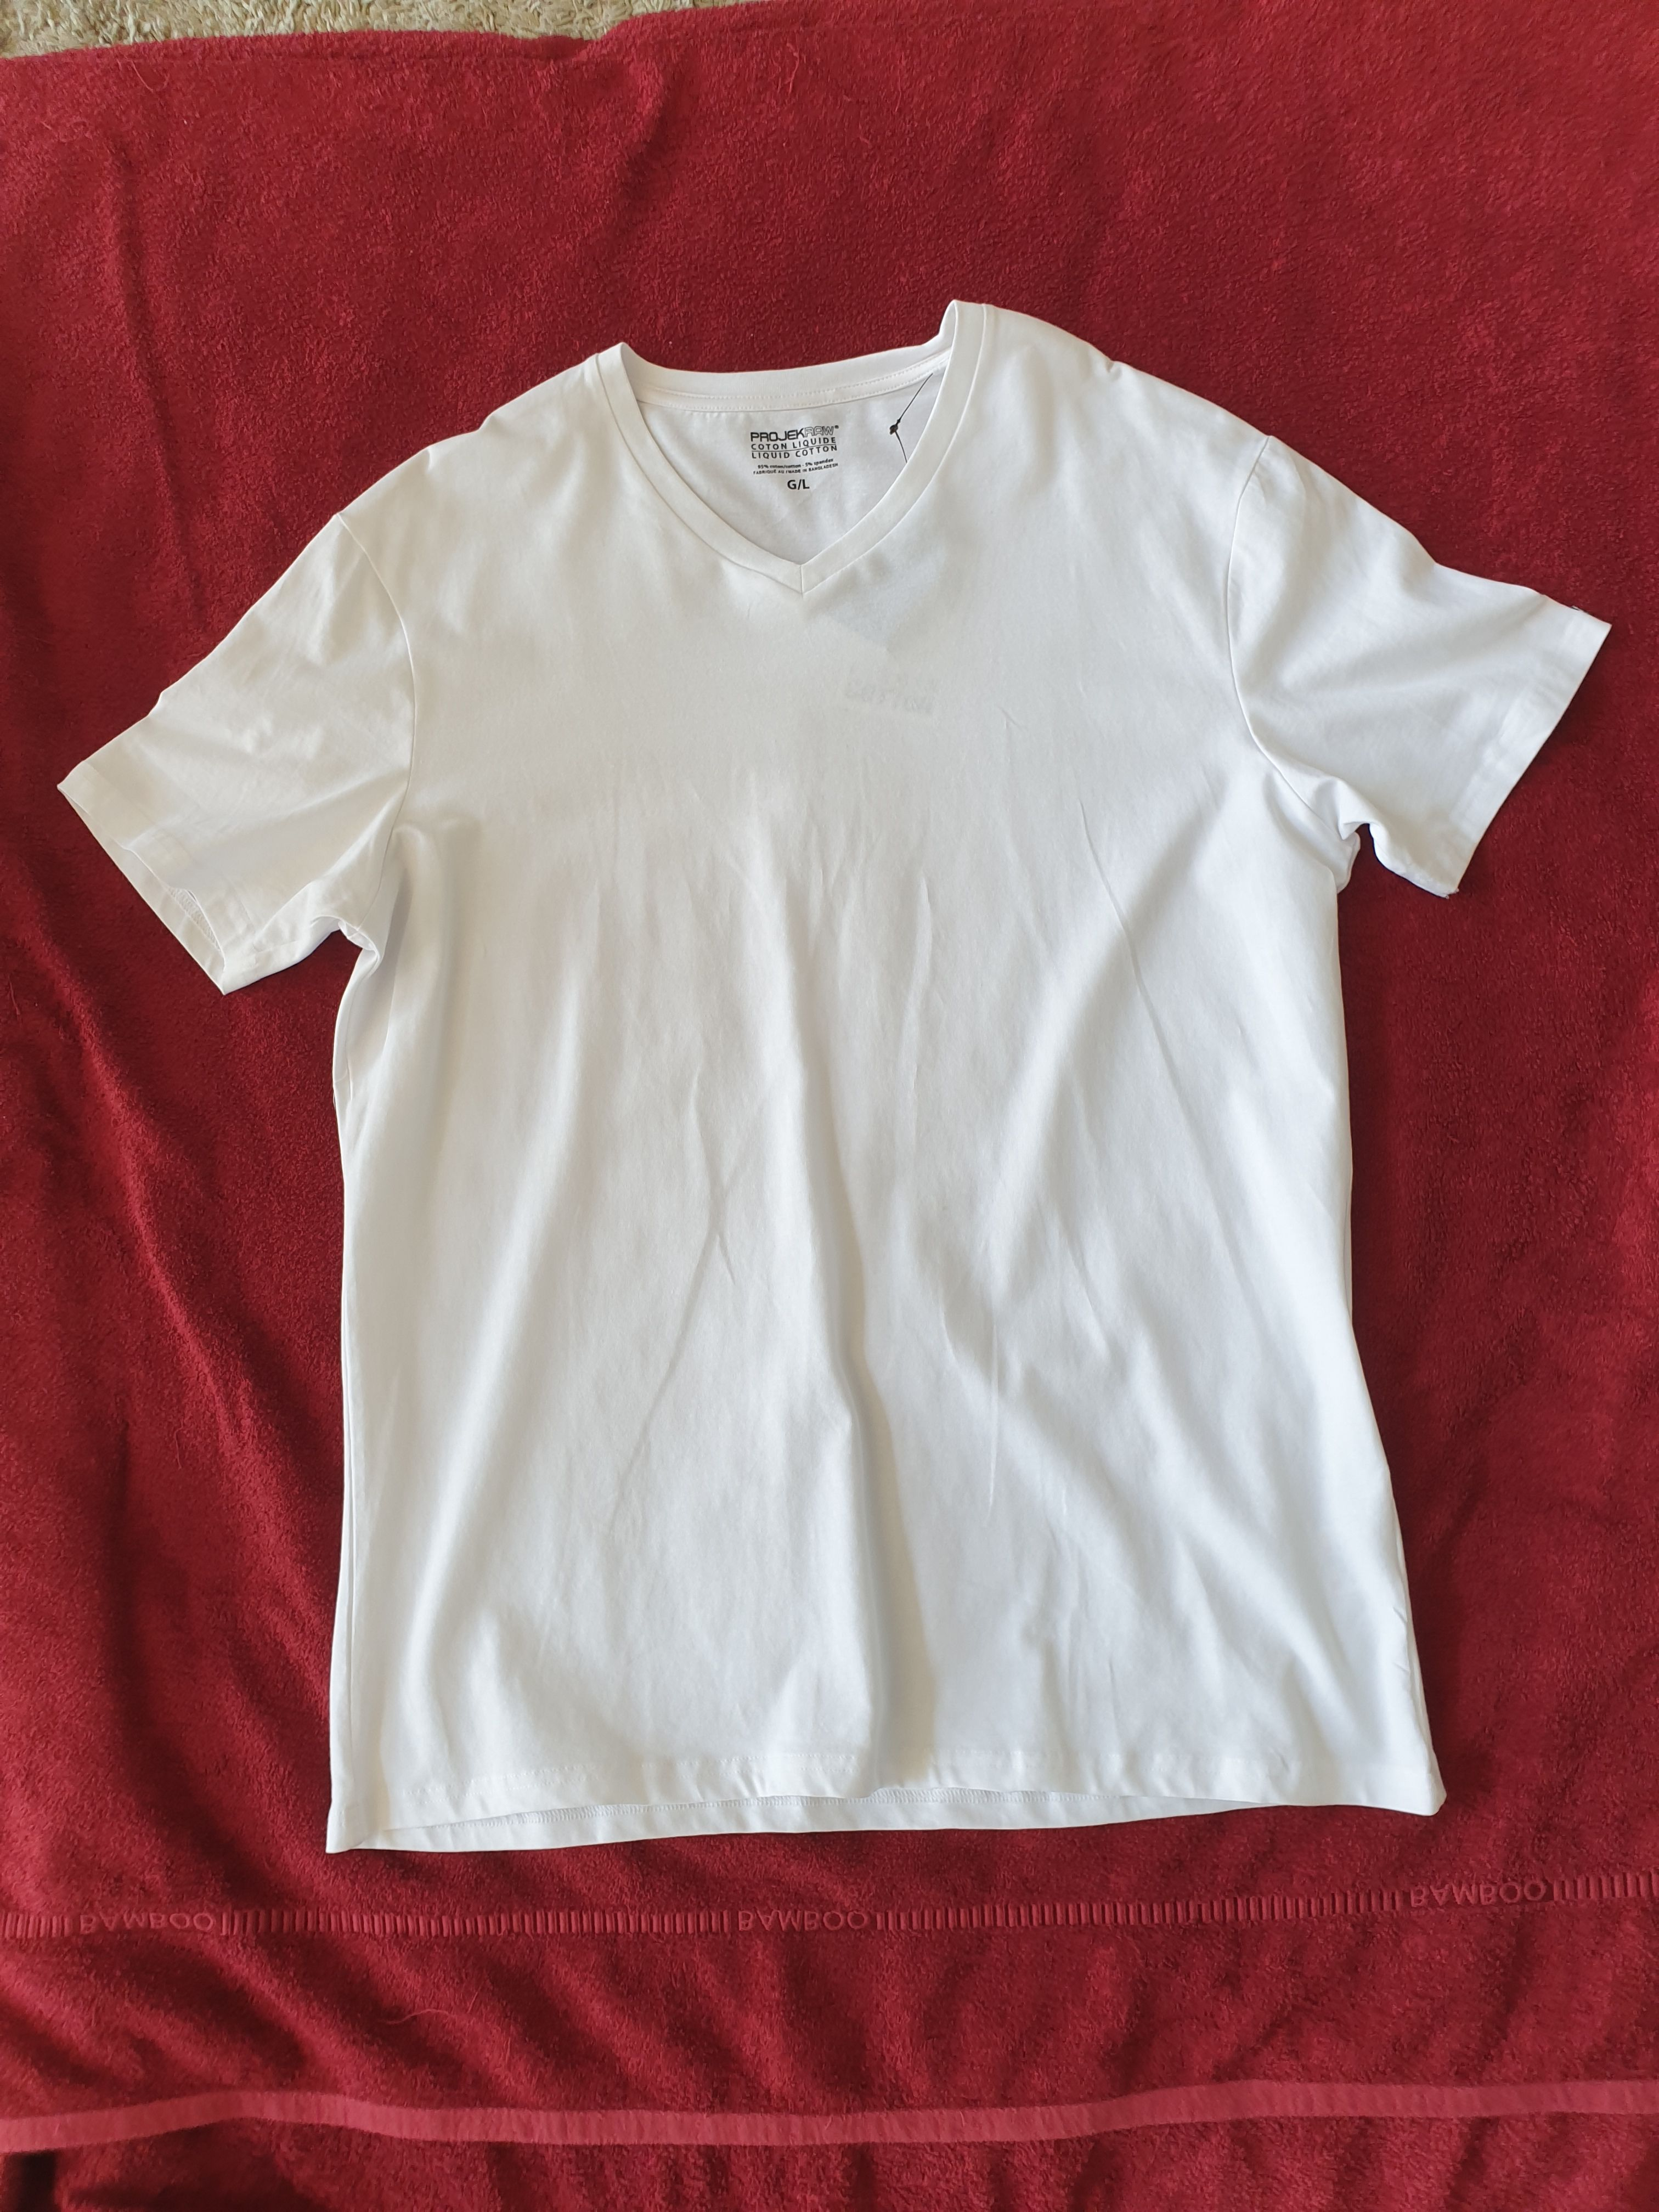clothes: (70, 300, 1601, 1799)
